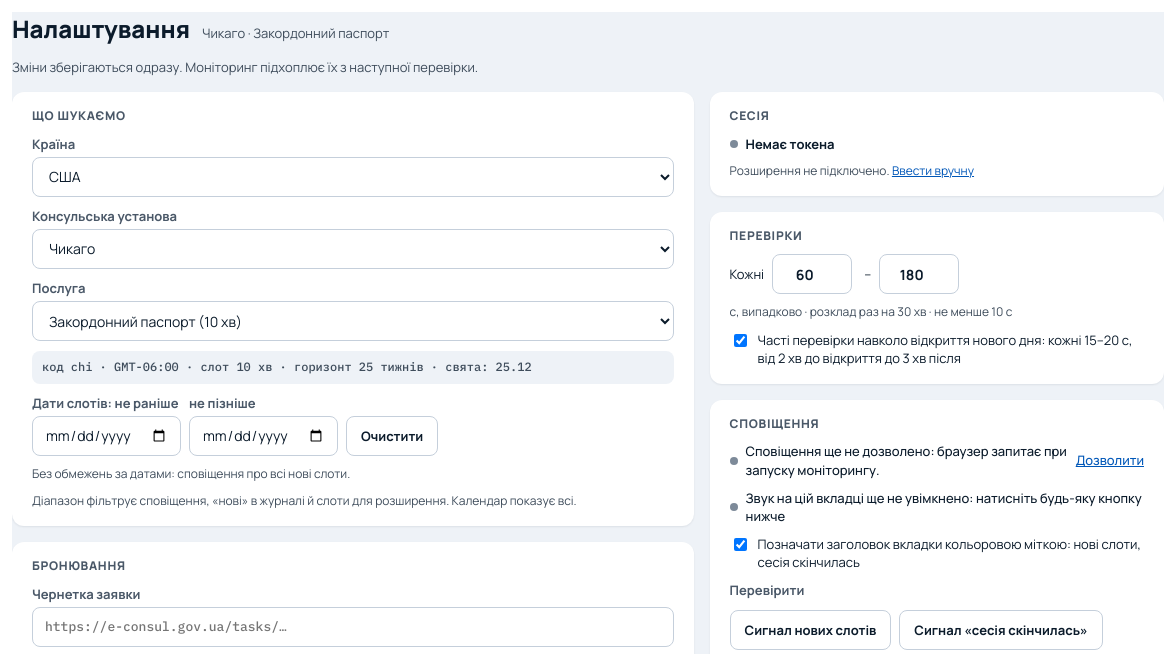
Test: SettingsView › takes the token by hand without echoing it
The width and height of the screenshot is (1164, 654).
Click the button "Ввести вручну".
click(933, 171)  # box left=892, top=163, right=974, bottom=180
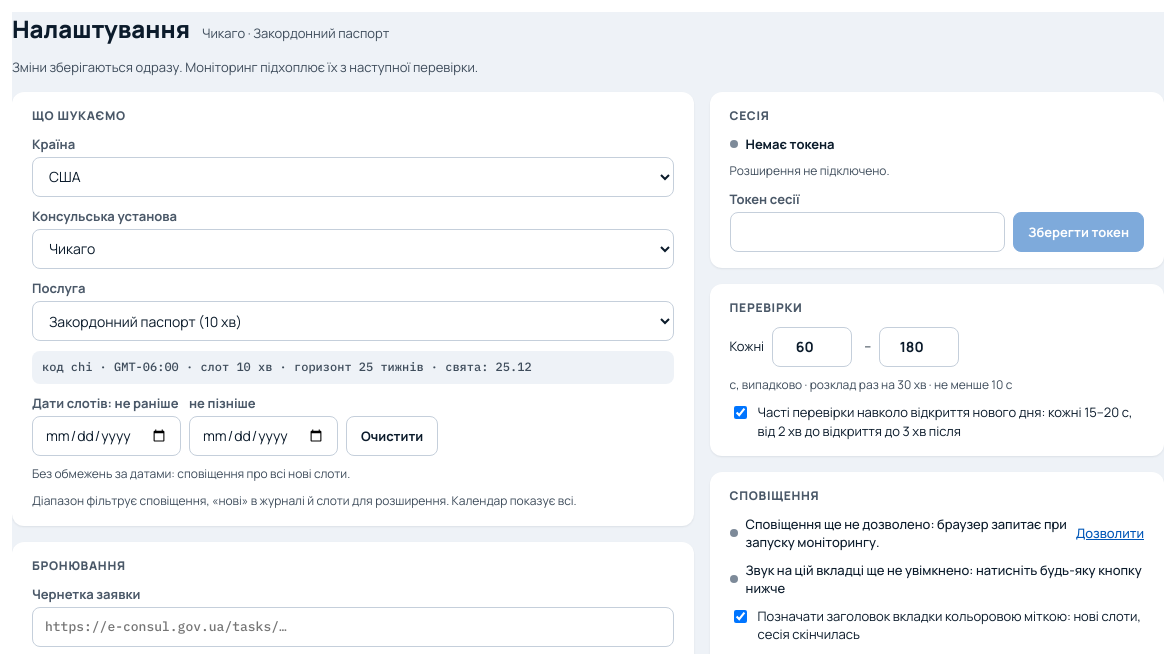
Type "eyJ-secret-token" into the password field labelled "Токен сесії".
click(867, 232); type("eyJ-secret-token")  # box left=730, top=212, right=1005, bottom=252
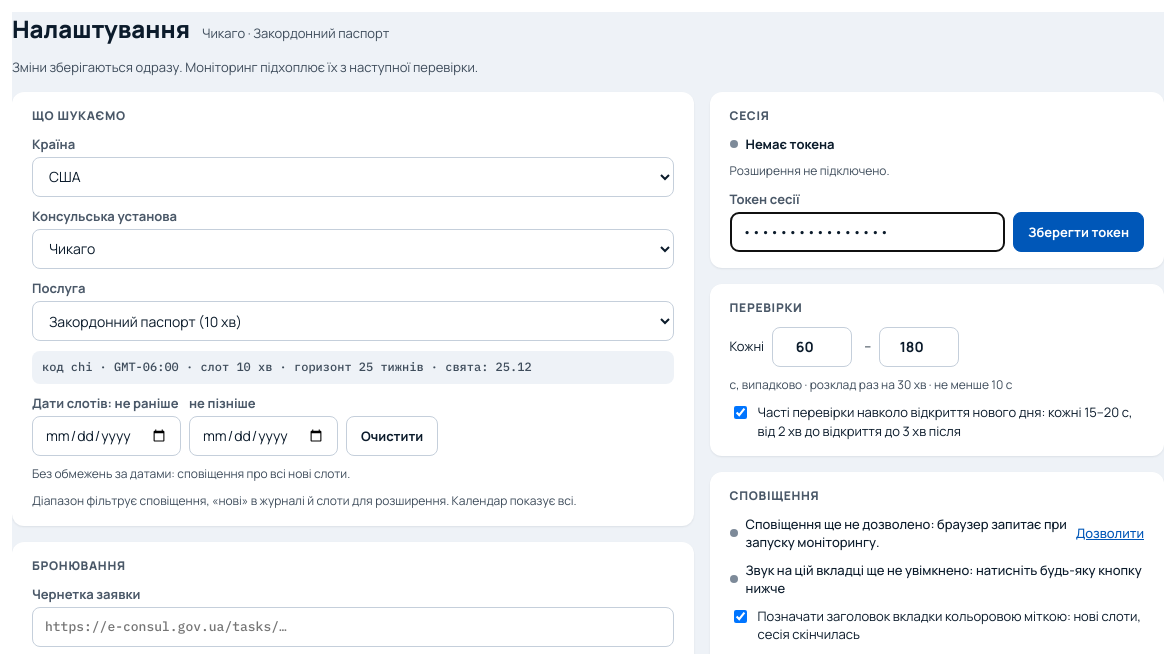
Click the button "Зберегти токен".
click(1078, 232)  # box left=1013, top=212, right=1144, bottom=252
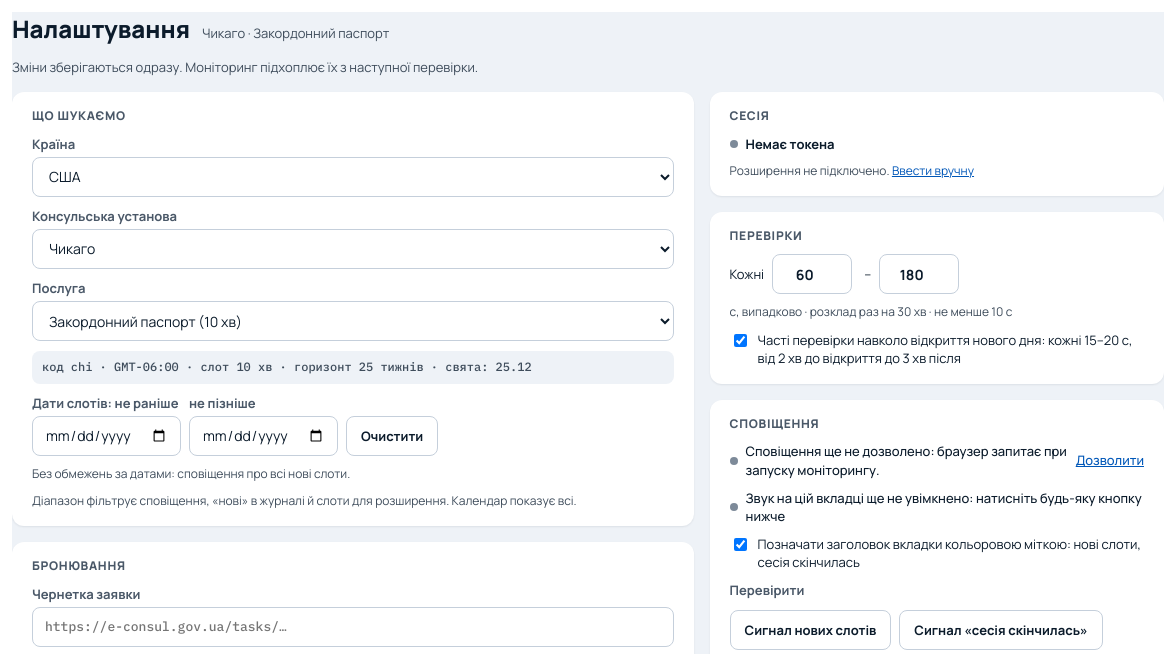
Expected: the text labelled "Токен сесії" is gone
